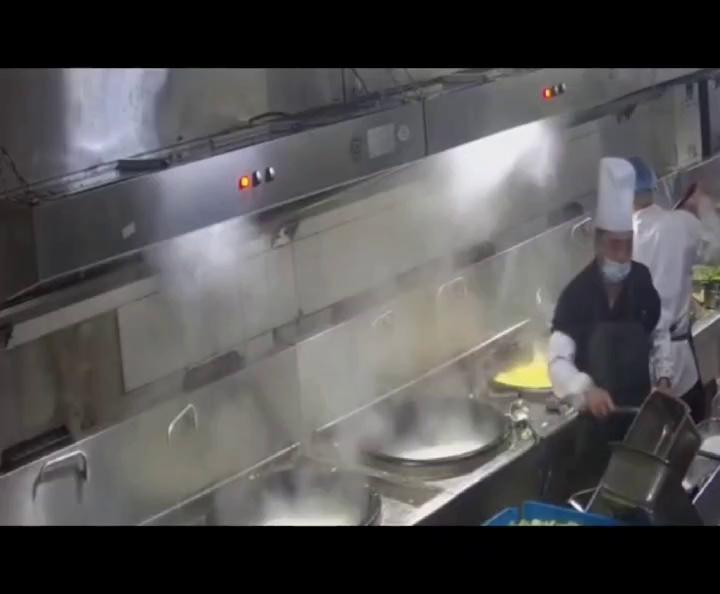mask: (598, 254, 636, 283)
